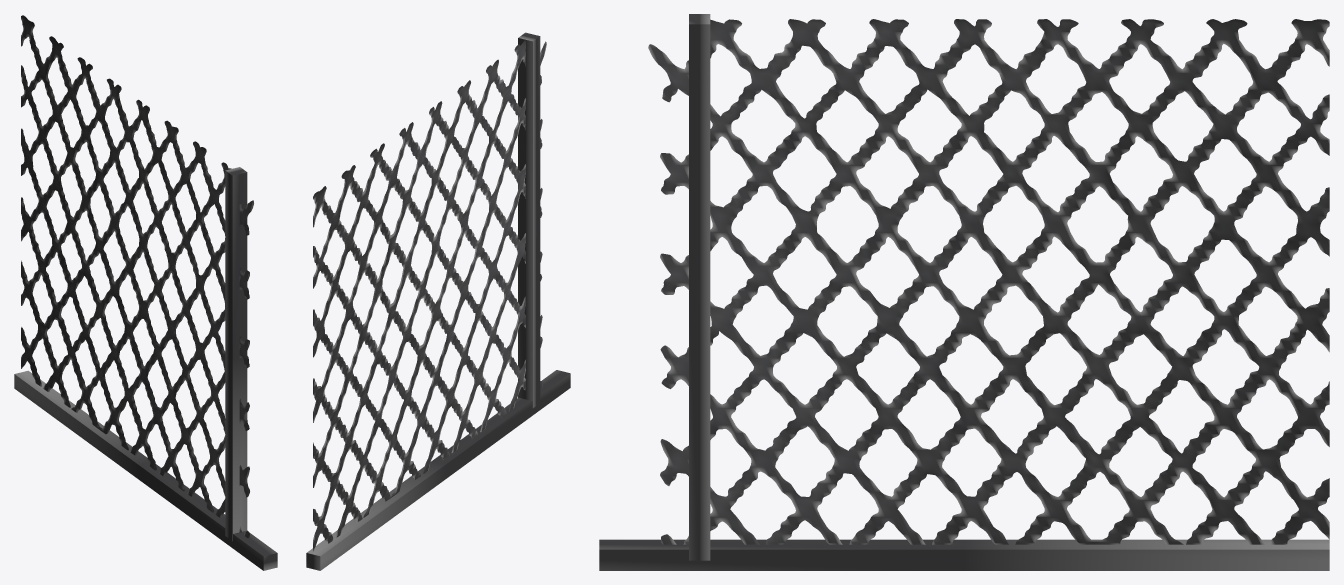
Rendered from pz_fence_png_fencing_01_26.obj.
3 views of the same model, side by side, from view 1: azimuth 30°, elevation 25°; view 2: azimuth 150°, elevation 25°; view 3: azimuth 270°, elevation 25° (orthographic). The views are drawn at different scales.
Bounding box in the file's own units: 0.042 × 1.02 × 1.24.
1 material, 1 textured.
